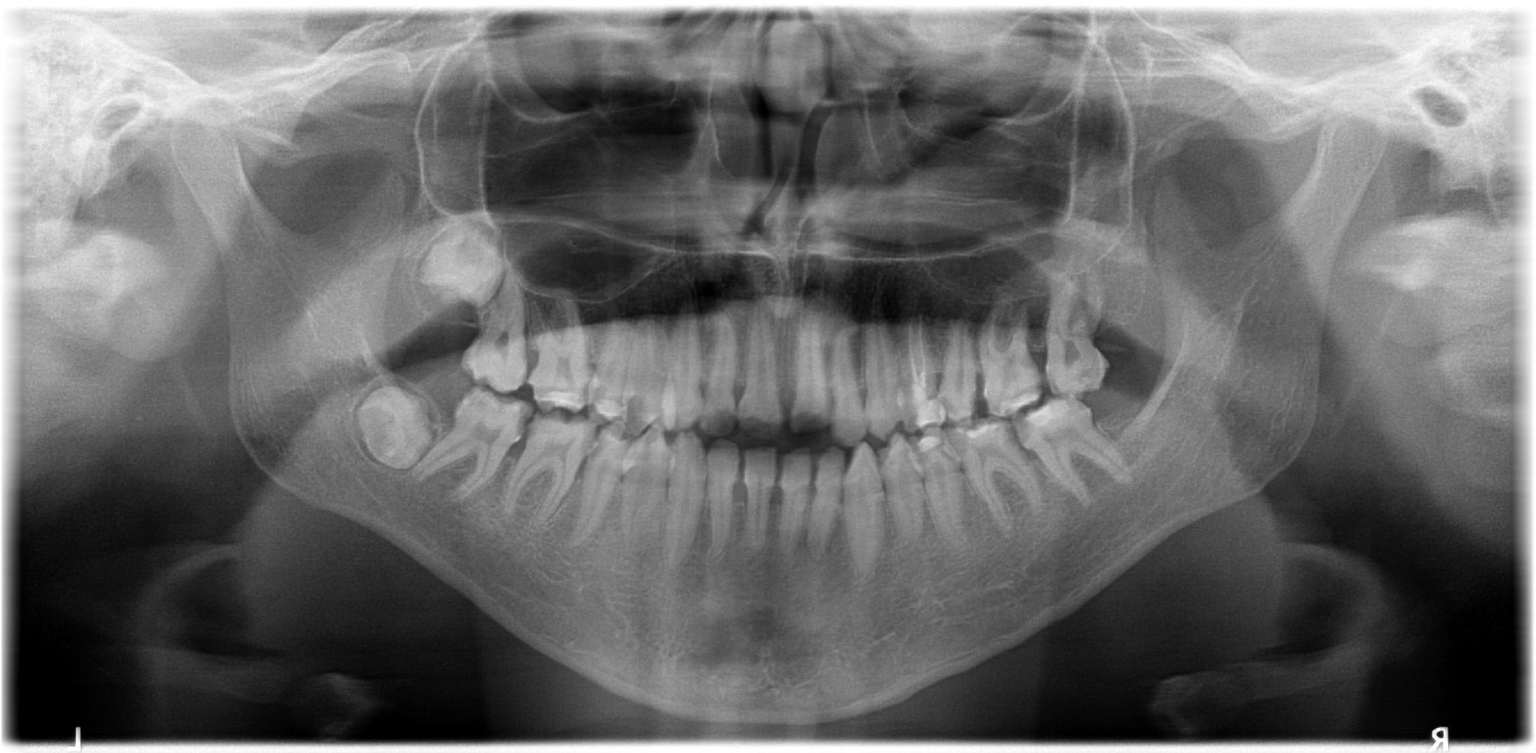Premolars: (434, 215, 1332, 753), (512, 226, 1521, 643), (487, 233, 1431, 658), (557, 212, 1536, 606), (489, 196, 1467, 508), (524, 166, 1536, 442), (464, 184, 1406, 478), (335, 216, 989, 638), (447, 183, 1336, 485), (343, 233, 960, 645), (555, 164, 1536, 417), (415, 184, 1238, 484), (305, 226, 895, 638), (388, 184, 1163, 487), (374, 166, 1113, 472), (332, 180, 995, 488), (219, 216, 618, 698), (320, 179, 956, 479), (293, 179, 880, 470), (235, 235, 654, 615), (259, 125, 748, 350)
